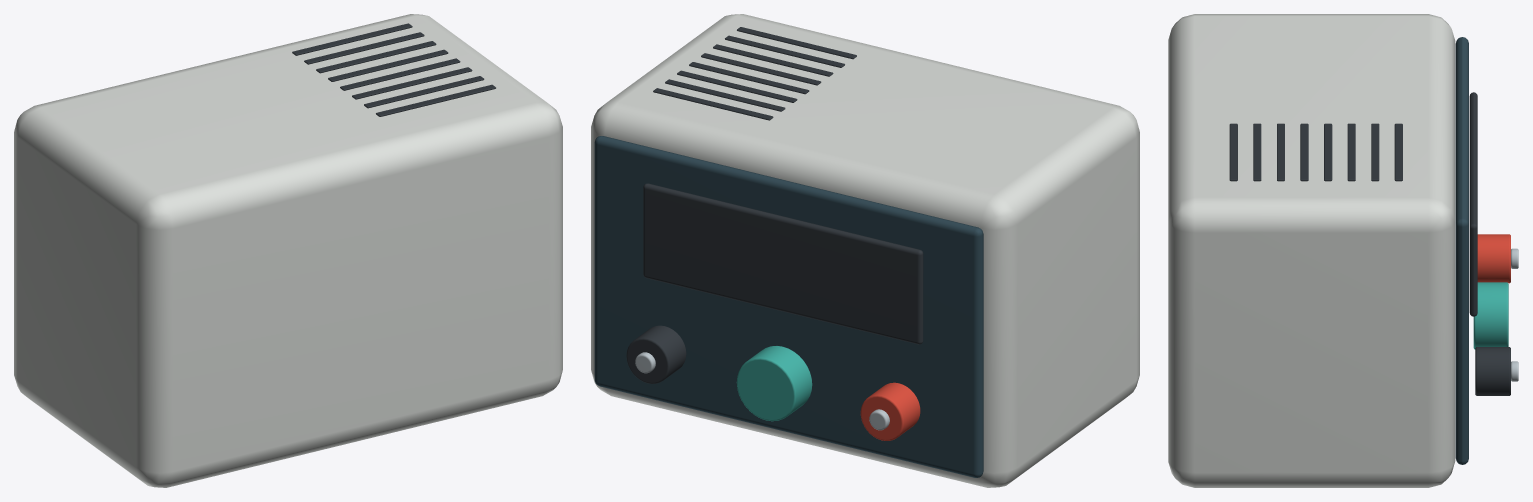
File: ENG_PowerSupply.fbx
3 renders of one model, left to right at view 1: azimuth 30°, elevation 25°; view 2: azimuth 150°, elevation 25°; view 3: azimuth 270°, elevation 25°, orthographic.
Parts seen in each view (by area): view 1: Housing, Vent, Vent.001, Vent.003, Vent.004, Vent.002, Vent.005, Vent.006, Vent.007; view 2: Housing, Face, Display, PowerSwitch, Terminal.001, Terminal, Vent, Vent.001, Vent.003, Vent.004, Vent.002, Vent.005 (+2 smaller); view 3: Housing, Face, PowerSwitch, Display, Terminal.001, Terminal, Vent.001, Vent.002, Vent.004, Vent.006, Vent.007, Vent (+2 smaller).
Part boxes in pixels (box(x1,y1,x2,y2)): Housing: box(14, 14, 562, 487); Vent: box(292, 23, 412, 55); Vent.001: box(304, 32, 424, 64); Vent.003: box(328, 49, 448, 81); Vent.004: box(340, 58, 460, 90); Vent.002: box(316, 41, 436, 73); Vent.005: box(352, 67, 472, 99); Vent.006: box(364, 76, 484, 108); Vent.007: box(376, 84, 495, 116); Housing: box(591, 14, 1139, 487); Face: box(594, 136, 983, 477); Display: box(643, 183, 923, 344); PowerSwitch: box(736, 346, 812, 421); Terminal.001: box(626, 325, 686, 383); Terminal: box(860, 382, 920, 440); Vent: box(653, 88, 773, 120); Vent.001: box(665, 79, 785, 111); Vent.003: box(689, 62, 809, 94); Vent.004: box(701, 53, 821, 85); Vent.002: box(677, 70, 797, 102); Vent.005: box(713, 44, 833, 76); Housing: box(1168, 14, 1455, 487); Face: box(1455, 37, 1468, 464); PowerSwitch: box(1473, 282, 1508, 349); Display: box(1469, 92, 1477, 316); Terminal.001: box(1475, 347, 1510, 395); Terminal: box(1477, 234, 1510, 283); Vent.001: box(1371, 123, 1379, 181); Vent.002: box(1347, 123, 1355, 181); Vent.004: box(1300, 123, 1308, 181); Vent.006: box(1253, 123, 1261, 181); Vent.007: box(1229, 123, 1237, 181); Vent: box(1394, 123, 1402, 181).
Bounding box in the file's own units: 47 × 31.8 × 34.2.
